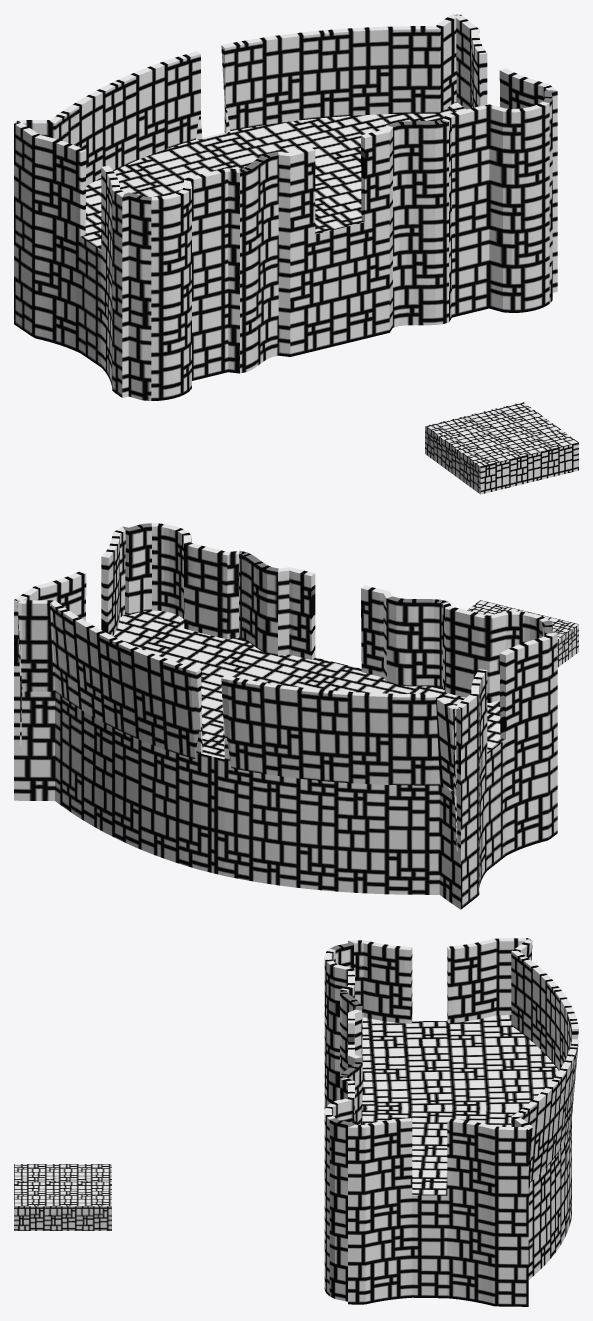
Rendered from Temple.glb.
The picture shows the model from 3 angles, top to bottom: view 1: azimuth 30°, elevation 25°; view 2: azimuth 150°, elevation 25°; view 3: azimuth 270°, elevation 25°; orthographic projection. The views are drawn at different scales.
Parts seen in each view (by area): view 1: Entrance, Cube; view 2: Entrance, Cube; view 3: Entrance, Cube.
Boxes of the visible parts, left/top/right/bottom form: Entrance: left=14, top=14, right=557, bottom=400; Cube: left=425, top=402, right=578, bottom=494; Entrance: left=14, top=523, right=557, bottom=909; Cube: left=467, top=600, right=578, bottom=667; Entrance: left=324, top=938, right=578, bottom=1306; Cube: left=14, top=1164, right=111, bottom=1230.
Bounding box in the file's own units: 2.02 × 0.8683 × 2.52.
2 materials, 2 textured.
